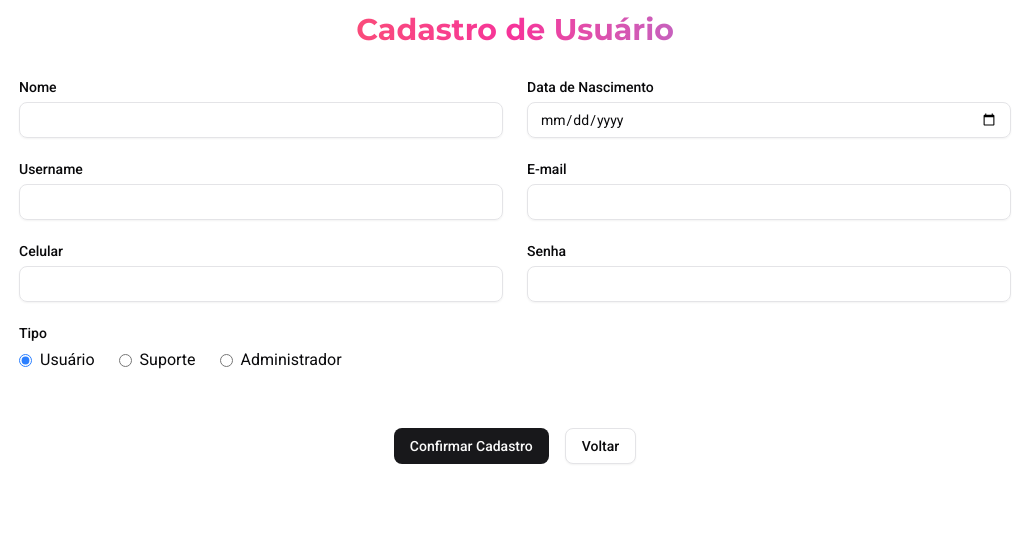
Test case: AddUserPage Component › Formulário e API › Deve mostrar mensagem de sucesso após cadastro bem-sucedido e resetar formulário
This screenshot has width=1031, height=543.
Type "Novo Usuário" into the field labelled "Nome".
click(261, 120); type("Novo Usuário")  # box [19,102,503,138]
Type "novoUser" into the field labelled "Username".
click(261, 202); type("novoUser")  # box [19,184,503,220]
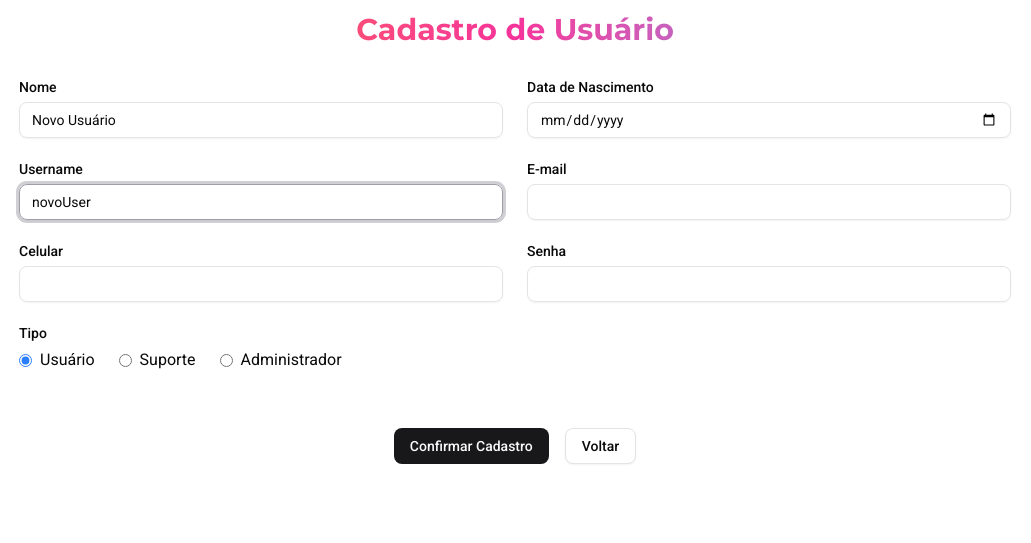
Type "2000-01-01" into the date field labelled "Data de Nascimento".
click(769, 120); type("2000-01-01")  # box [527,102,1011,138]
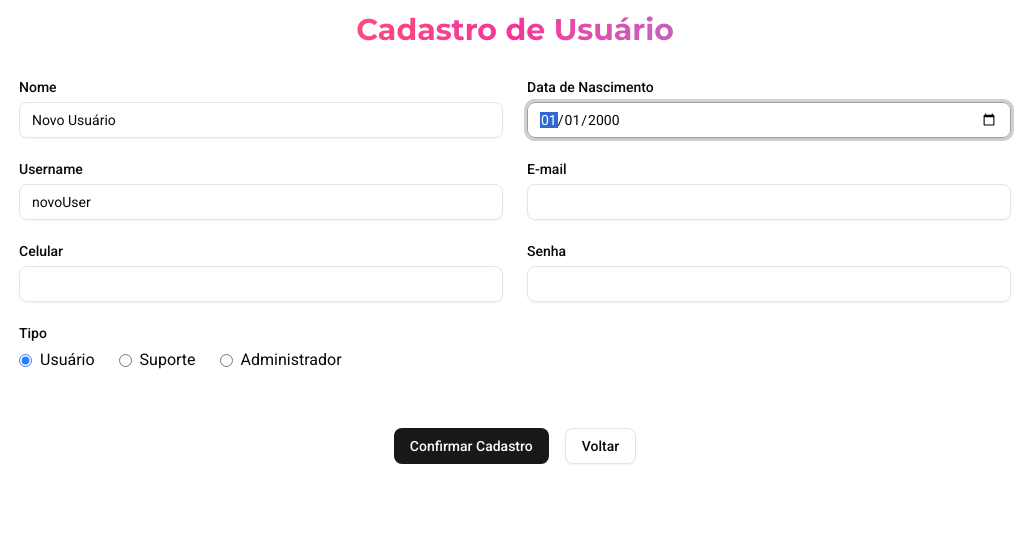
Type "novo@teste.com" into the field labelled "E-mail".
click(769, 202); type("novo@teste.com")  # box [527,184,1011,220]
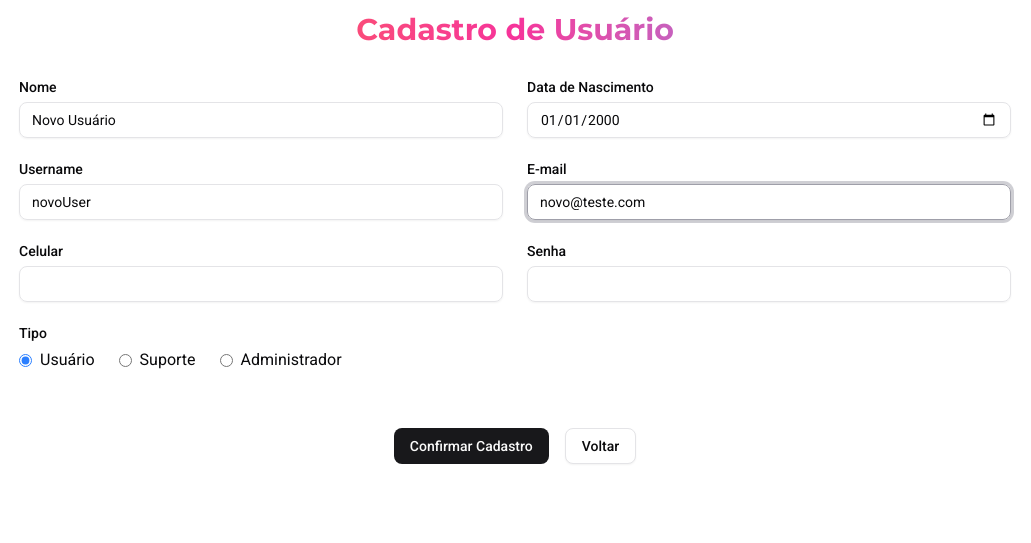
Type "5592929999999" into the field labelled "Celular".
click(261, 284); type("5592929999999")  # box [19,266,503,302]
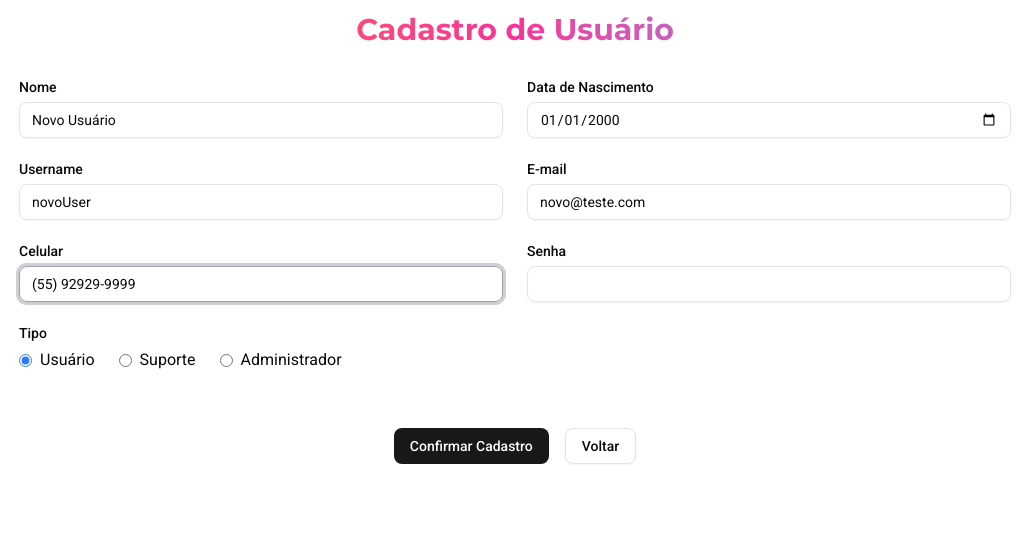
Type "12345Ab@" into the password field labelled "Senha".
click(769, 284); type("12345Ab@")  # box [527,266,1011,302]
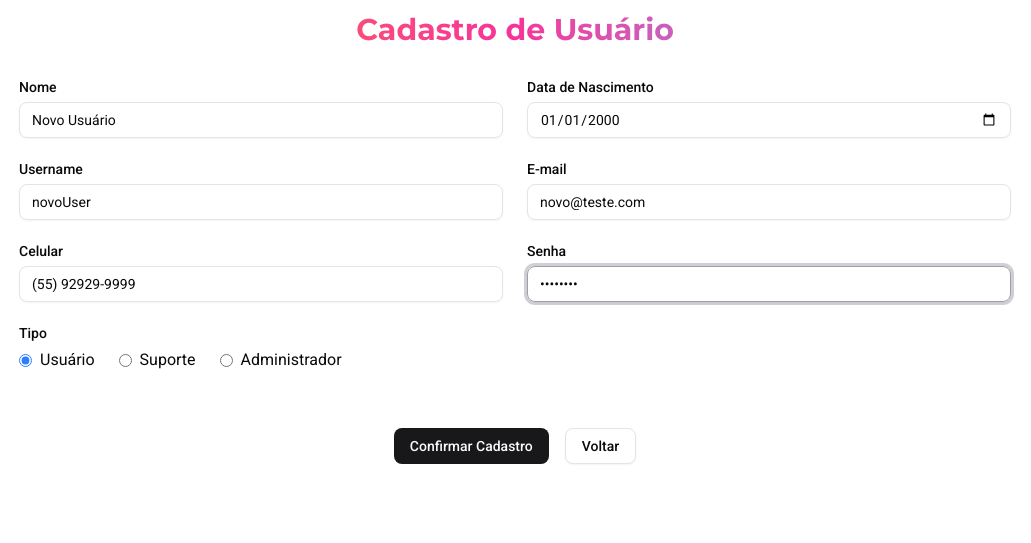
Click the button "Confirmar Cadastro".
click(471, 446)  # box [394,428,549,464]
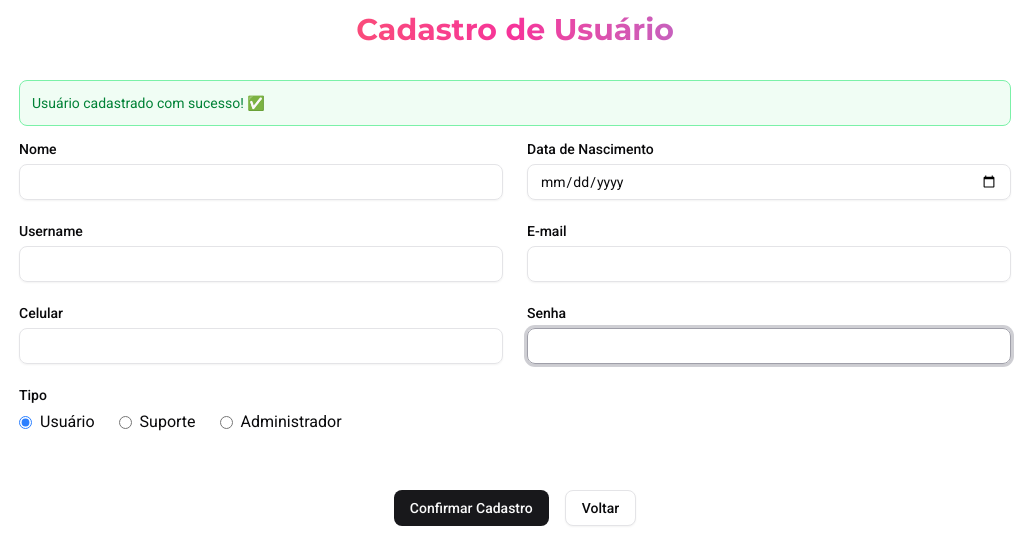
Expected: the text "Usuário cadastrado com sucesso! ✅" is shown, [19,80,1011,126]
Expected: the field labelled "Nome" is empty, [19,164,503,200]
